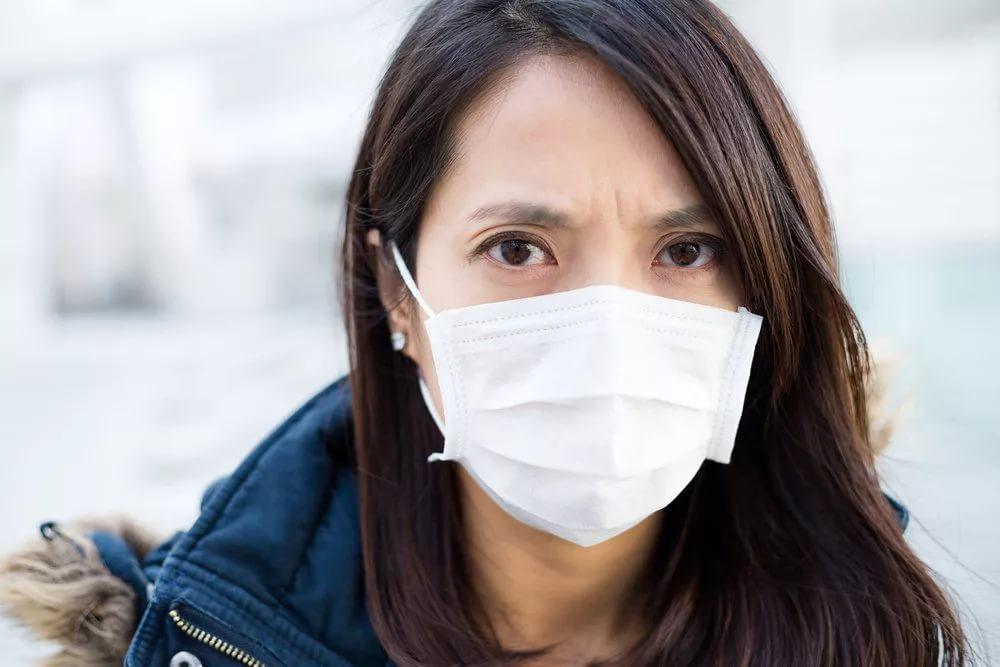mask: (423, 94, 762, 532)
